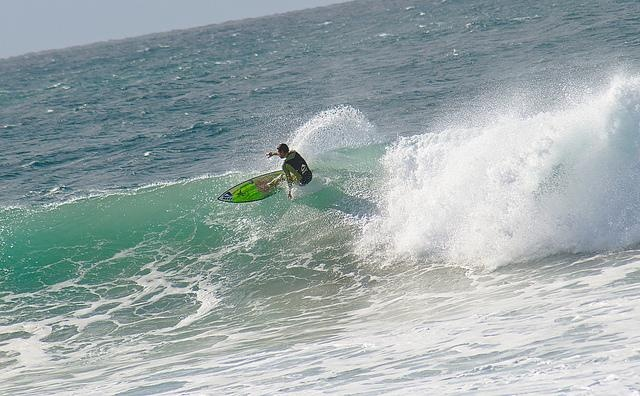person: (263, 143, 313, 202)
